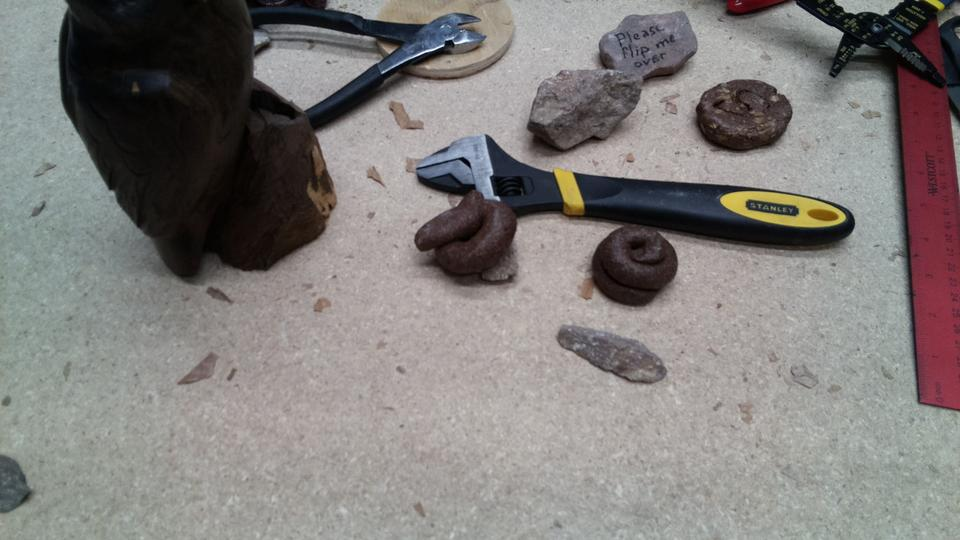poop: (413, 189, 518, 281), (585, 222, 681, 310), (694, 78, 797, 154)
